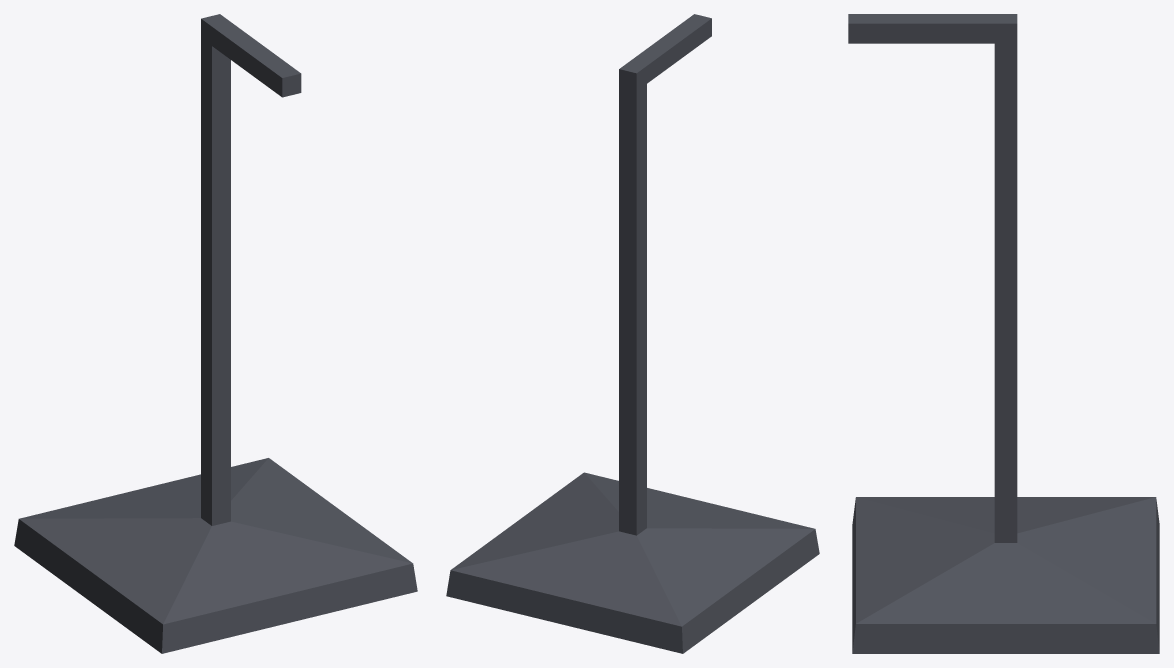
The model's file is leg.fbx.
The picture shows the model from 3 angles, left to right: view 1: azimuth 30°, elevation 25°; view 2: azimuth 150°, elevation 25°; view 3: azimuth 270°, elevation 25°; orthographic projection. The views are drawn at different scales.
Parts seen in each view (by area): view 1: Cube.004; view 2: Cube.004; view 3: Cube.004.
Part boxes in pixels (<box>): Cube.004: <box>14,14,417,653</box>; Cube.004: <box>446,14,819,653</box>; Cube.004: <box>848,14,1159,653</box>.
Size of the model in its own units: 200 by 410 by 203.
Materials: 1 (1 with a texture image).
